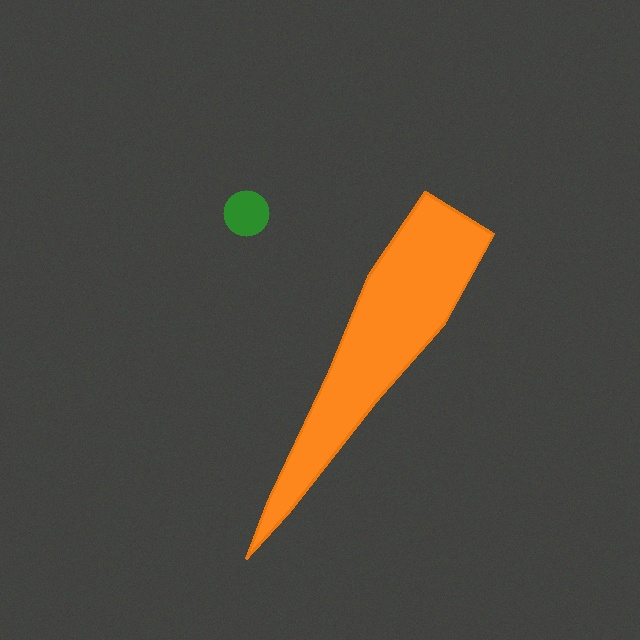Good_Carrot: (238, 184, 501, 566)
